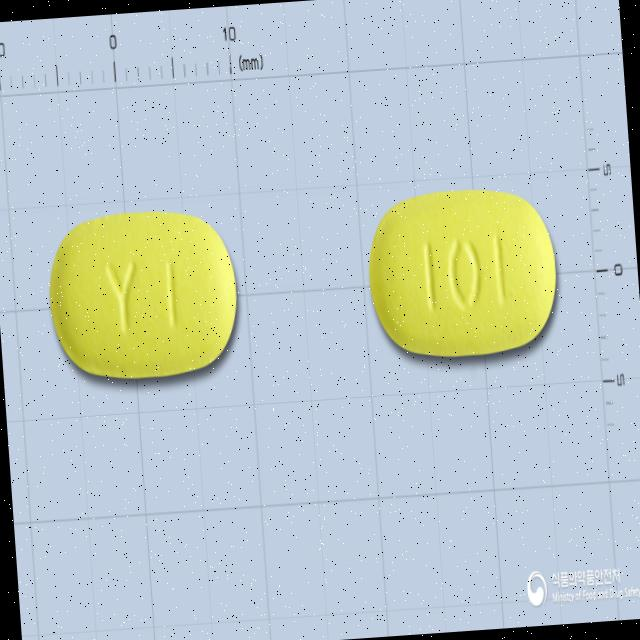Youngil Clarithromycin Tab: (44, 204, 242, 384), (363, 185, 562, 361)
